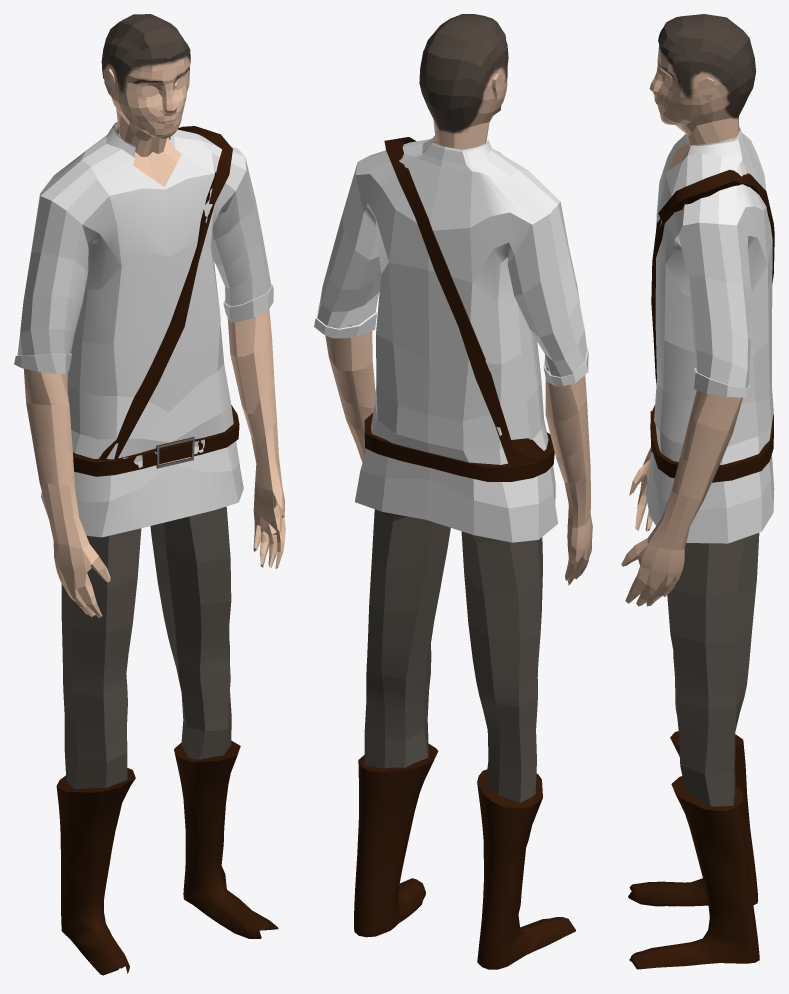
The model's file is perso.obj.
3 renders of one model, left to right at view 1: azimuth 30°, elevation 25°; view 2: azimuth 150°, elevation 25°; view 3: azimuth 270°, elevation 25°, orthographic.
Visible parts, largest first — view 1: polySurface12; view 2: polySurface12; view 3: polySurface12.
Part boxes in pixels (<box>): polySurface12: <box>14,14,285,975</box>; polySurface12: <box>314,14,592,969</box>; polySurface12: <box>621,14,774,969</box>.
Size of the model in its own units: 1.59 by 5.47 by 0.826.
1 material, 1 textured.
